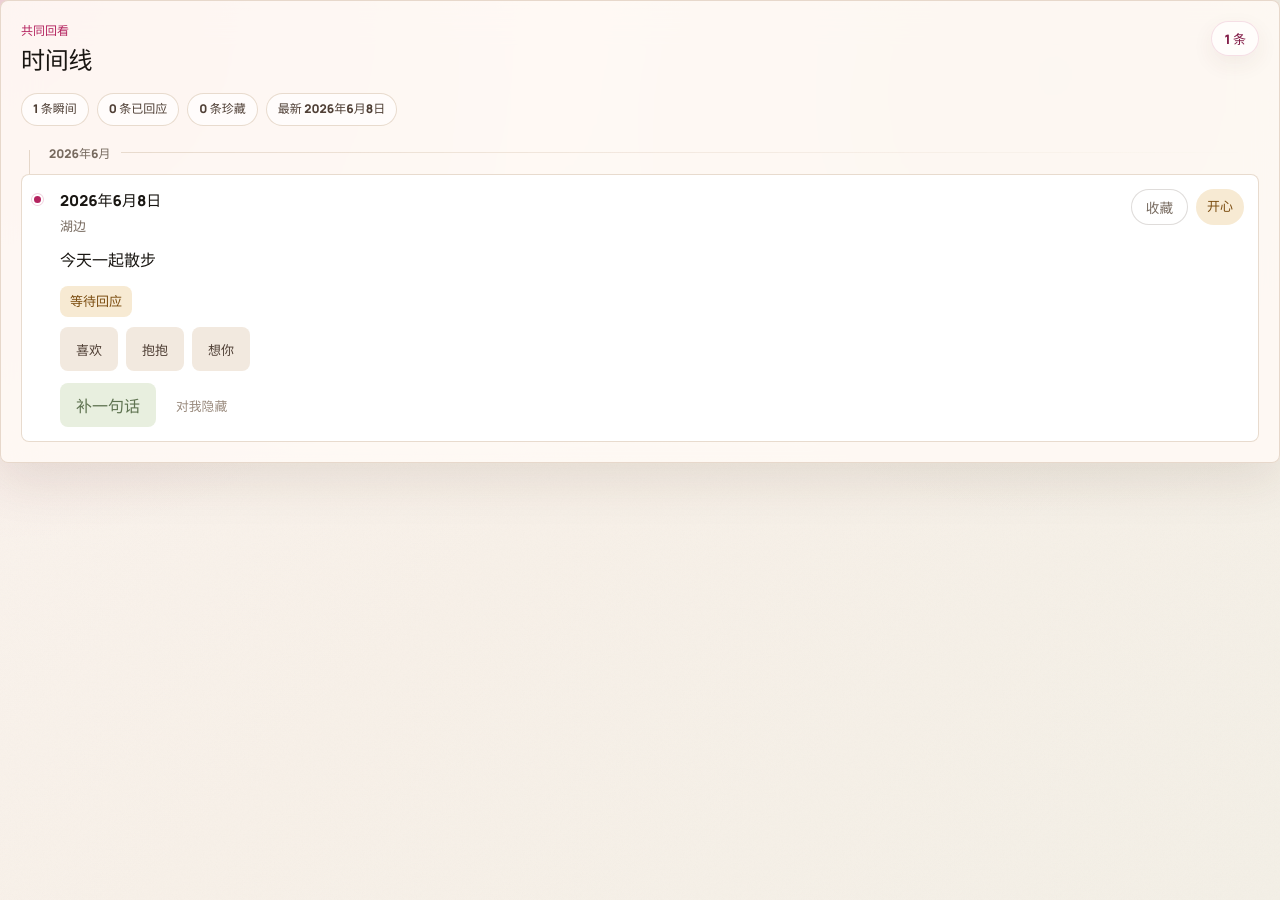
Test: Timeline actions › hides a moment for the current user only
The image size is (1280, 900).
Click the button "对我隐藏". click: (202, 405)
box: [164,387,239,423]
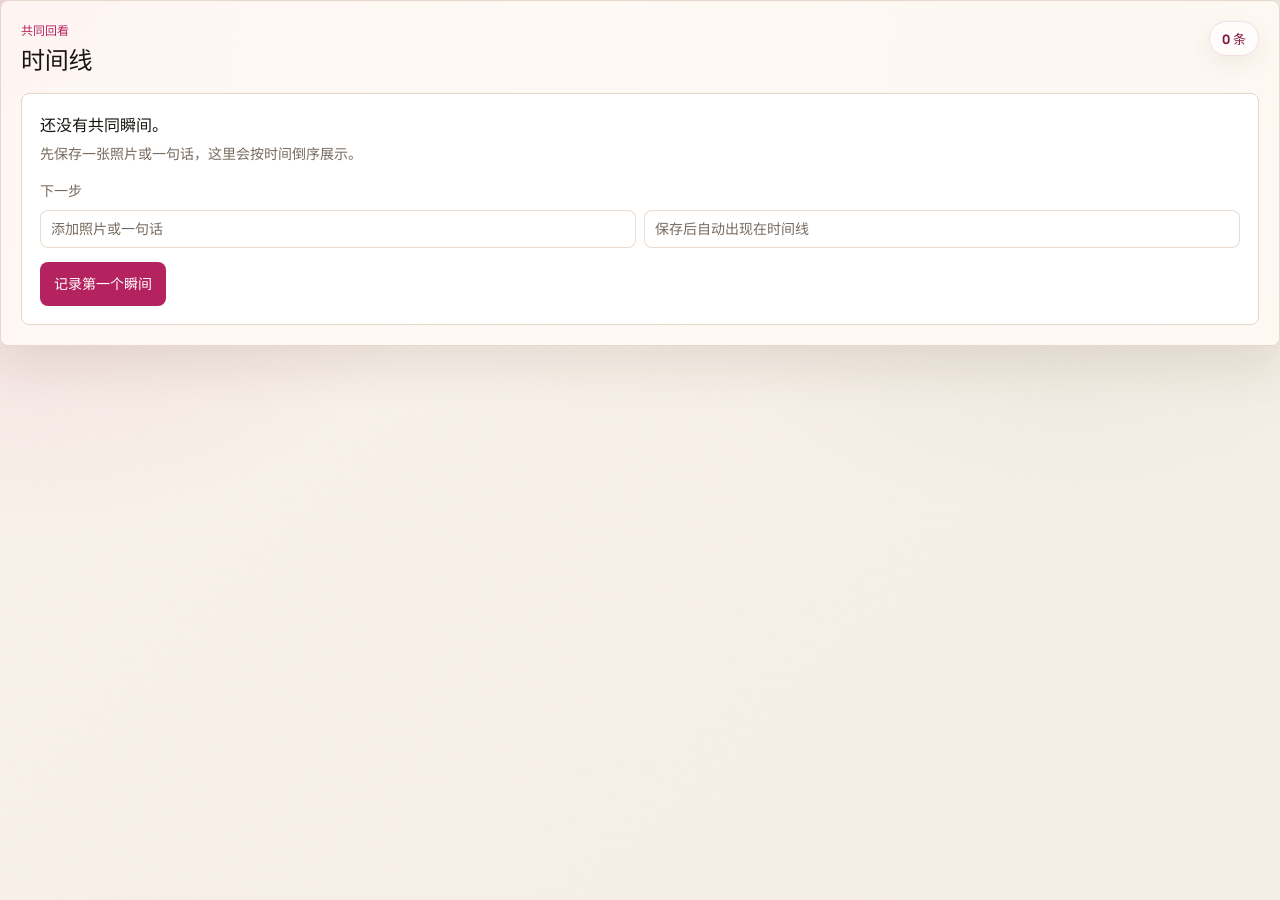
Now the text "今天一起散步" is gone
